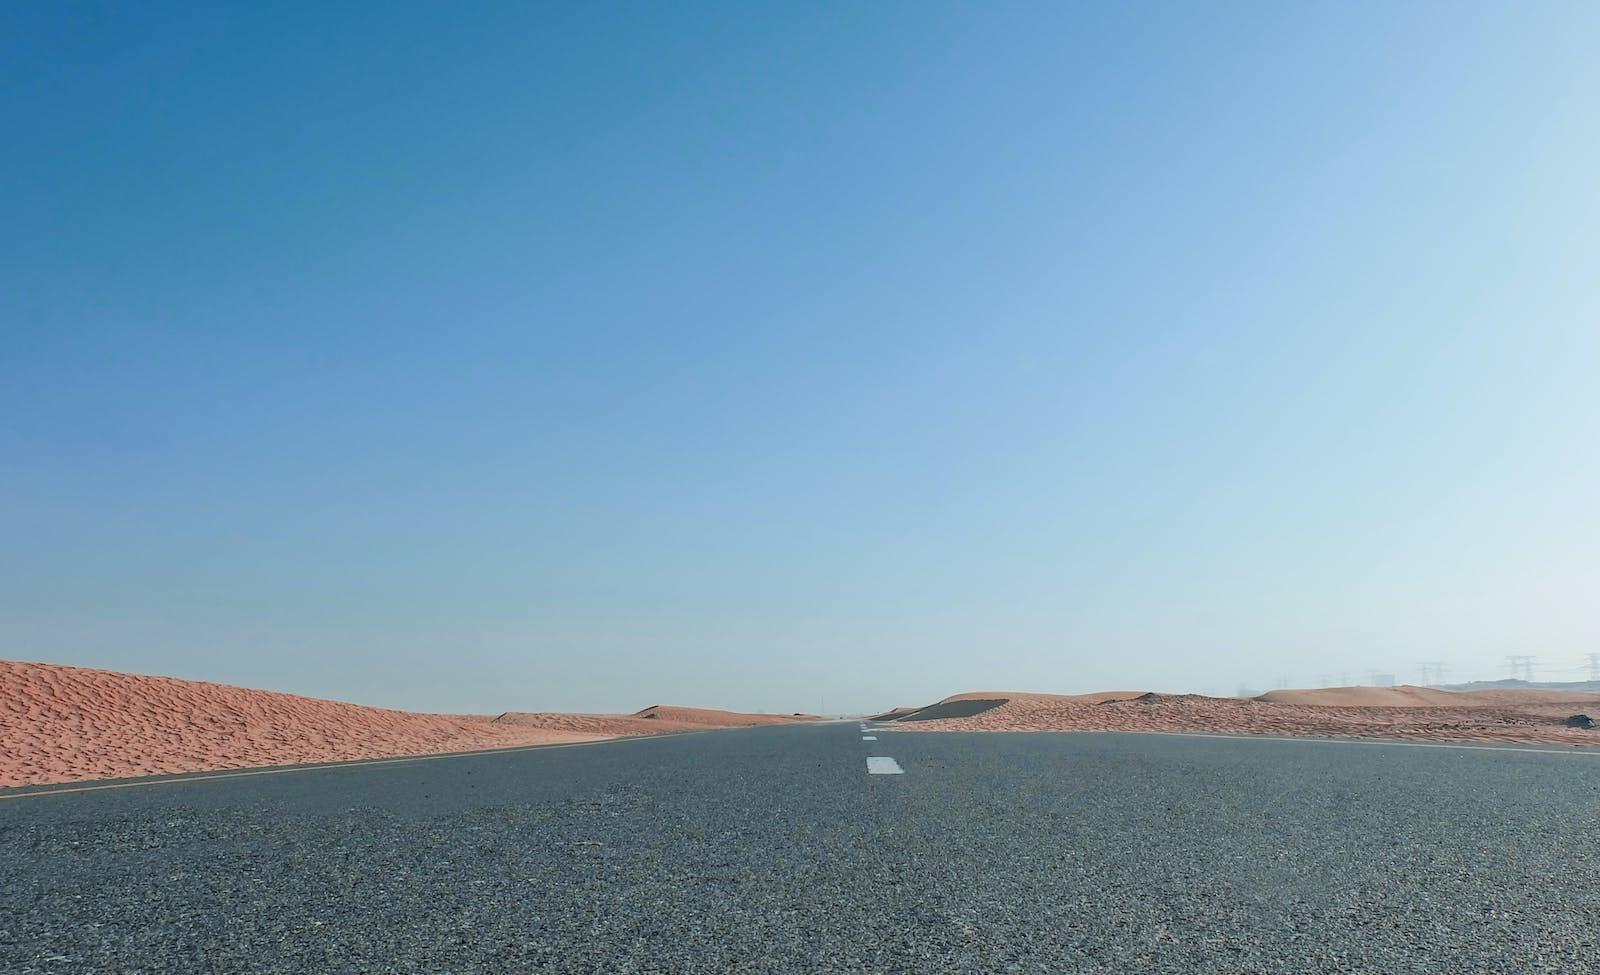road: (0, 724, 1599, 972)
